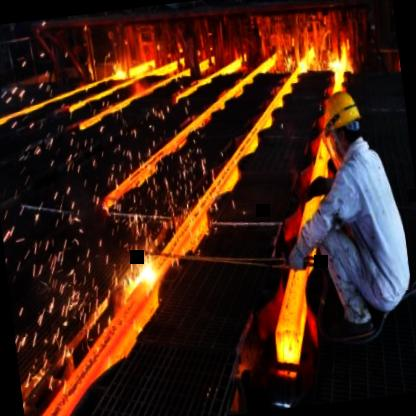helmet: (320, 89, 367, 163)
